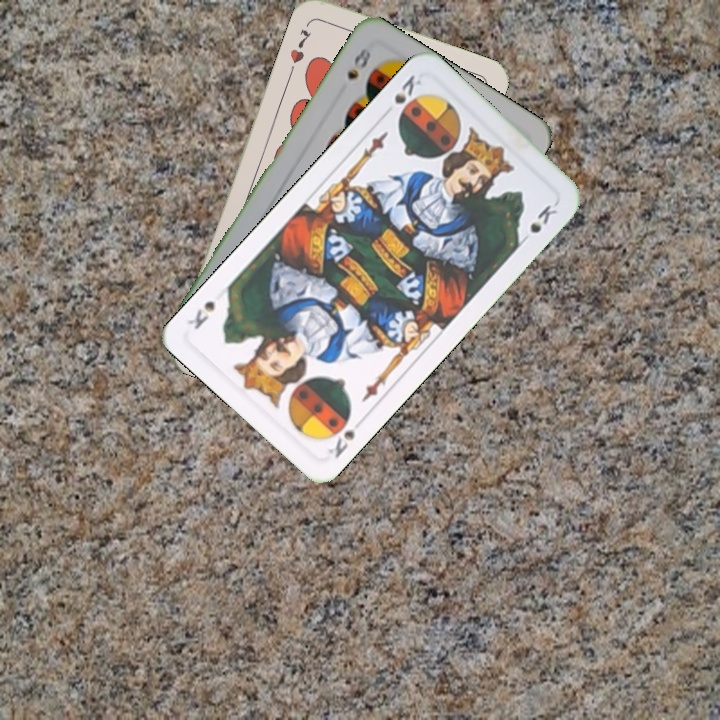H7: (286, 25, 315, 66)
S8: (343, 43, 374, 83)
SK: (322, 409, 365, 461), (379, 70, 424, 119)
